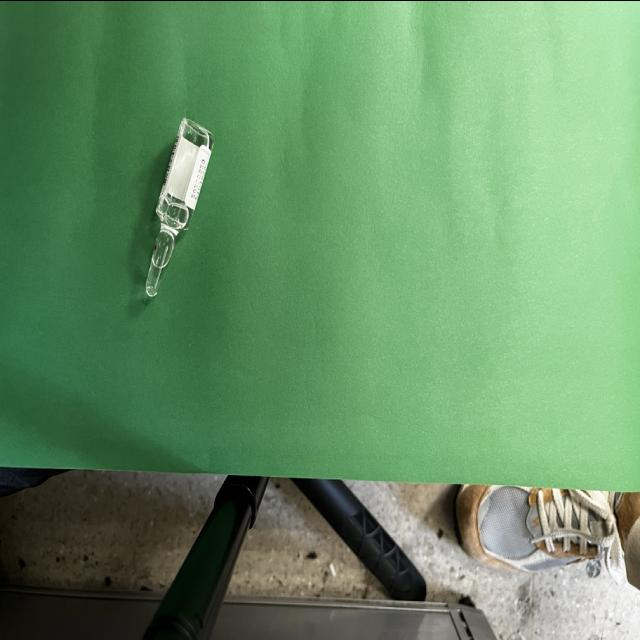Ampoules: (146, 117, 214, 296)
